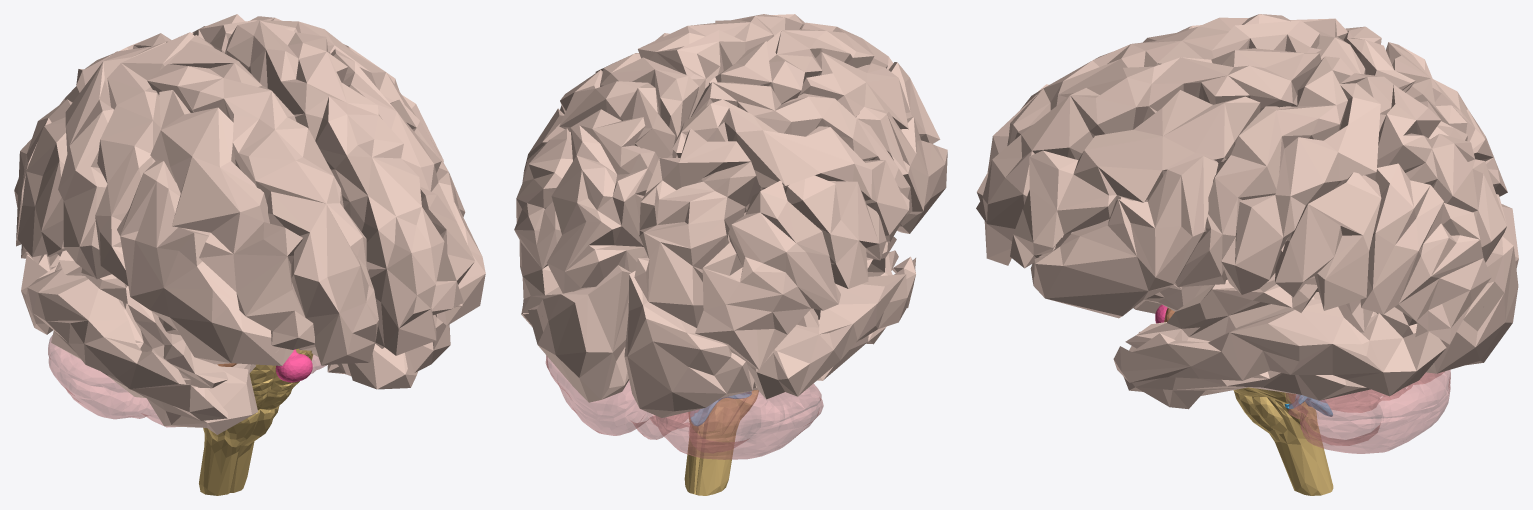
The model's file is braindeep.glb.
3 renders of one model, left to right at view 1: azimuth 30°, elevation 25°; view 2: azimuth 150°, elevation 25°; view 3: azimuth 270°, elevation 25°, orthographic. The views are drawn at different scales.
Parts seen in each view (by area): view 1: cortex, brainstem, cerebellum, hypothalamus; view 2: cortex, cerebellum, brainstem; view 3: cortex, cerebellum, brainstem.
Part boxes in pixels (box(x1,y1,x2,y2)): cortex: box(14, 14, 485, 434); brainstem: box(199, 348, 313, 495); cerebellum: box(48, 335, 326, 427); hypothalamus: box(275, 349, 312, 382); cortex: box(514, 14, 947, 417); cerebellum: box(545, 355, 823, 459); brainstem: box(684, 390, 758, 495); cortex: box(976, 14, 1518, 409); cerebellum: box(1285, 370, 1450, 453); brainstem: box(1233, 387, 1333, 495).
Size of the model in its own units: 0.1386 by 0.1658 by 0.1807.
